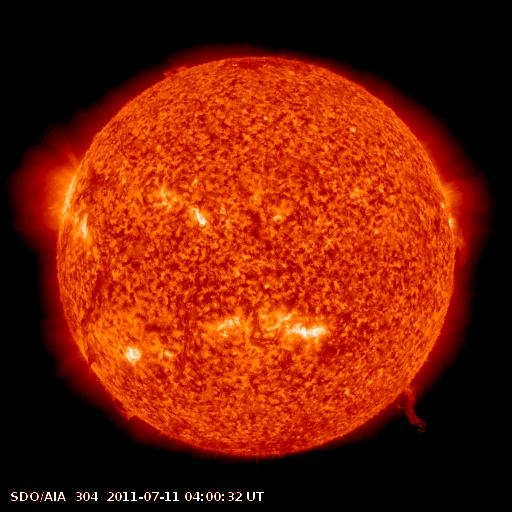prominence: (386, 378, 440, 439), (94, 383, 141, 428), (155, 58, 198, 85)
